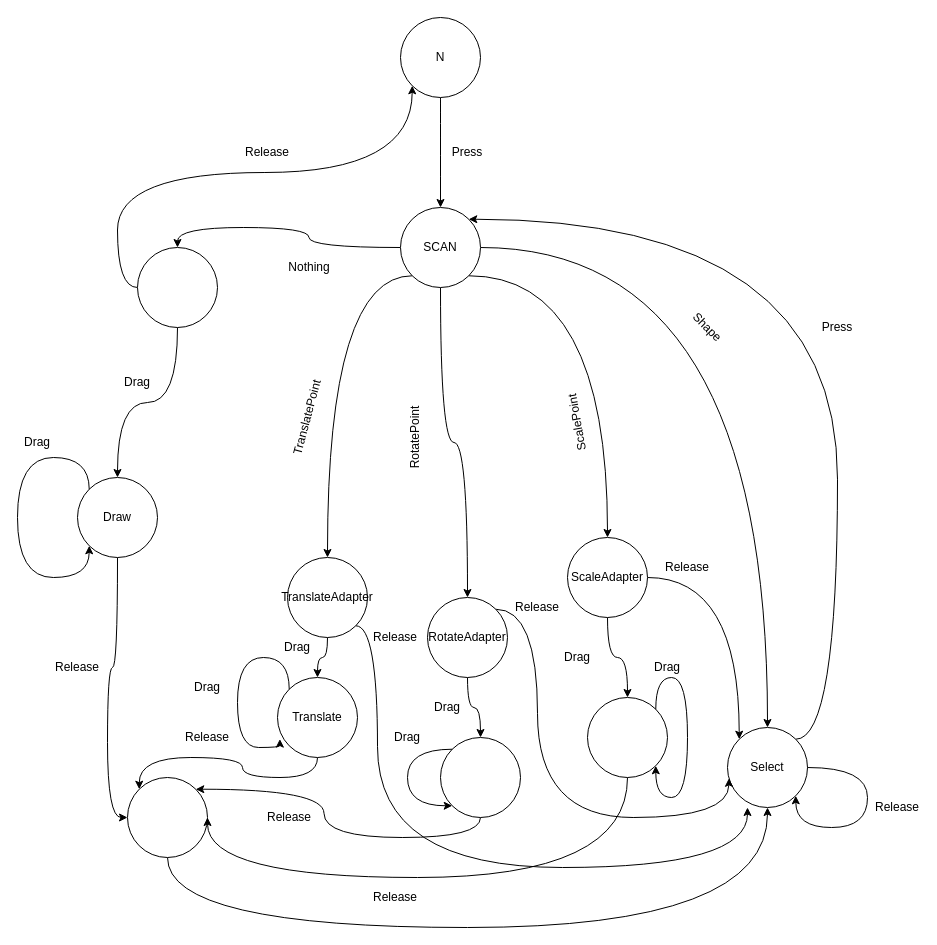
Image size: 937x945. Some labels were removed from this diagram. The shapes that lost their labels are listed below. From the top down, each one's centre as x and y in pixels, then its label:
At point 177,287: "DrawAdapter".
At point 627,737: "Scale".
At point 480,777: "Rotate".
At point 167,817: "Save".
